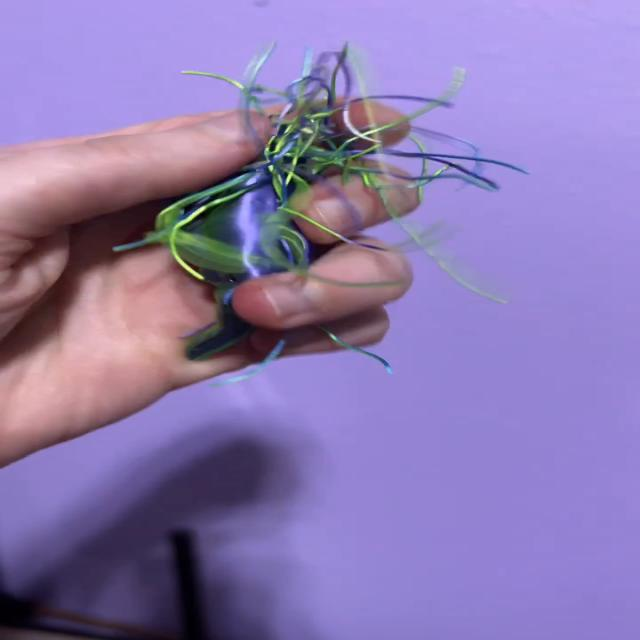spaghetti: (247, 62, 520, 190)
